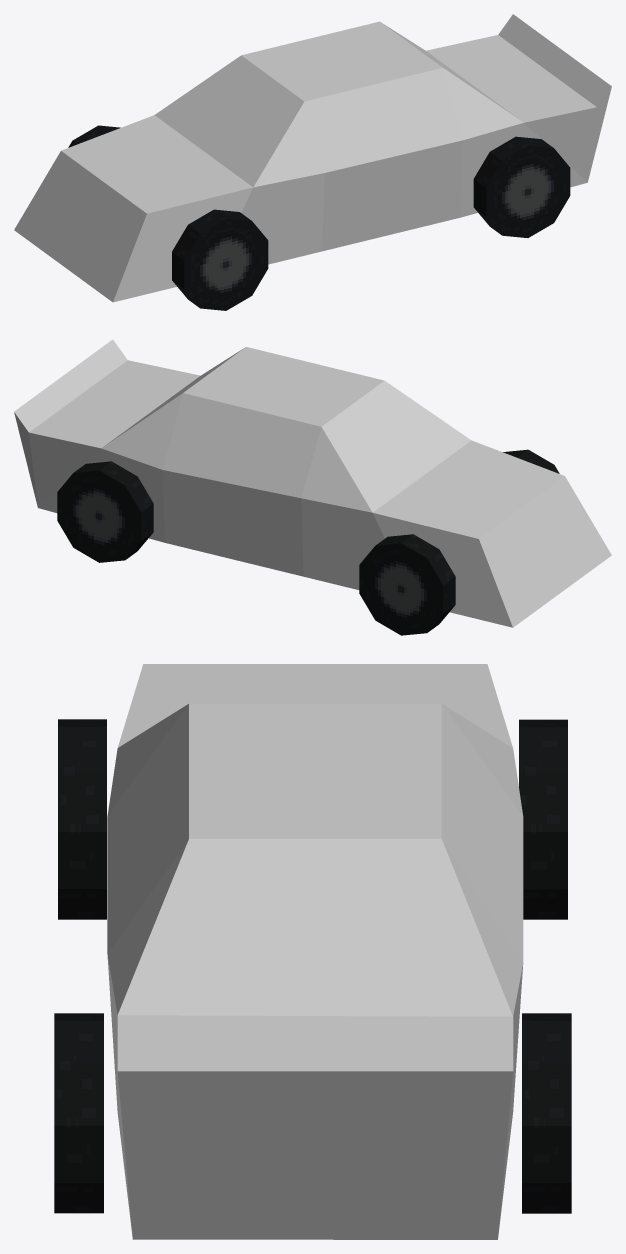
File: decentra.obj
3 views of the same model, one above another, from view 1: azimuth 30°, elevation 25°; view 2: azimuth 150°, elevation 25°; view 3: azimuth 270°, elevation 25° (orthographic). The views are drawn at different scales.
Visible parts, largest first — view 1: Car_Cube.001, FrontWheels_Cylinder, RearWheels_Cylinder.000; view 2: Car_Cube.001, FrontWheels_Cylinder, RearWheels_Cylinder.000; view 3: Car_Cube.001, RearWheels_Cylinder.000, FrontWheels_Cylinder.
Boxes of the visible parts, x1=… form: Car_Cube.001: x1=14, y1=14, x2=611, y2=302; FrontWheels_Cylinder: x1=68, y1=125, x2=268, y2=310; RearWheels_Cylinder.000: x1=473, y1=136, x2=570, y2=237; Car_Cube.001: x1=14, y1=339, x2=611, y2=627; FrontWheels_Cylinder: x1=359, y1=449, x2=559, y2=635; RearWheels_Cylinder.000: x1=57, y1=461, x2=153, y2=562; Car_Cube.001: x1=107, y1=664, x2=523, y2=1239; RearWheels_Cylinder.000: x1=54, y1=1013, x2=571, y2=1213; FrontWheels_Cylinder: x1=58, y1=719, x2=567, y2=919.
Size of the model in its own units: 7.64 by 2.32 by 3.43.
